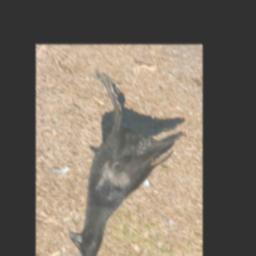Crow: (71, 71, 184, 256)
